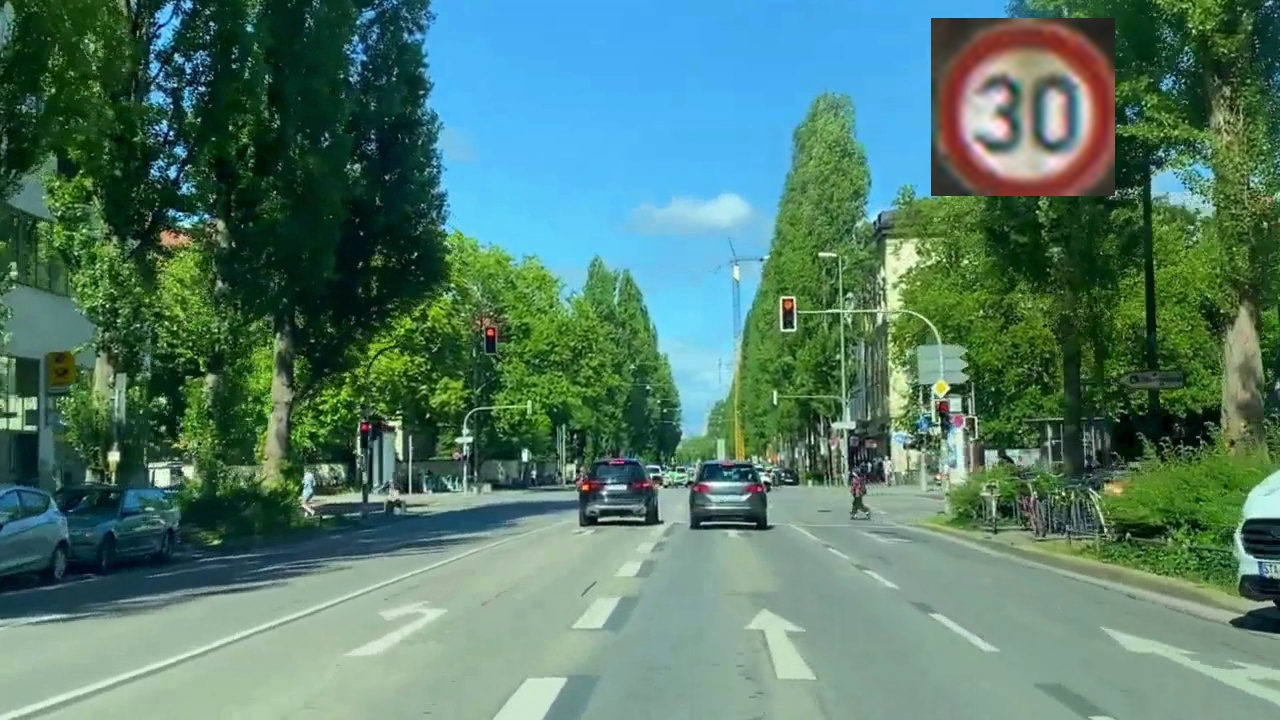Speed 30: (931, 18, 1115, 196)
